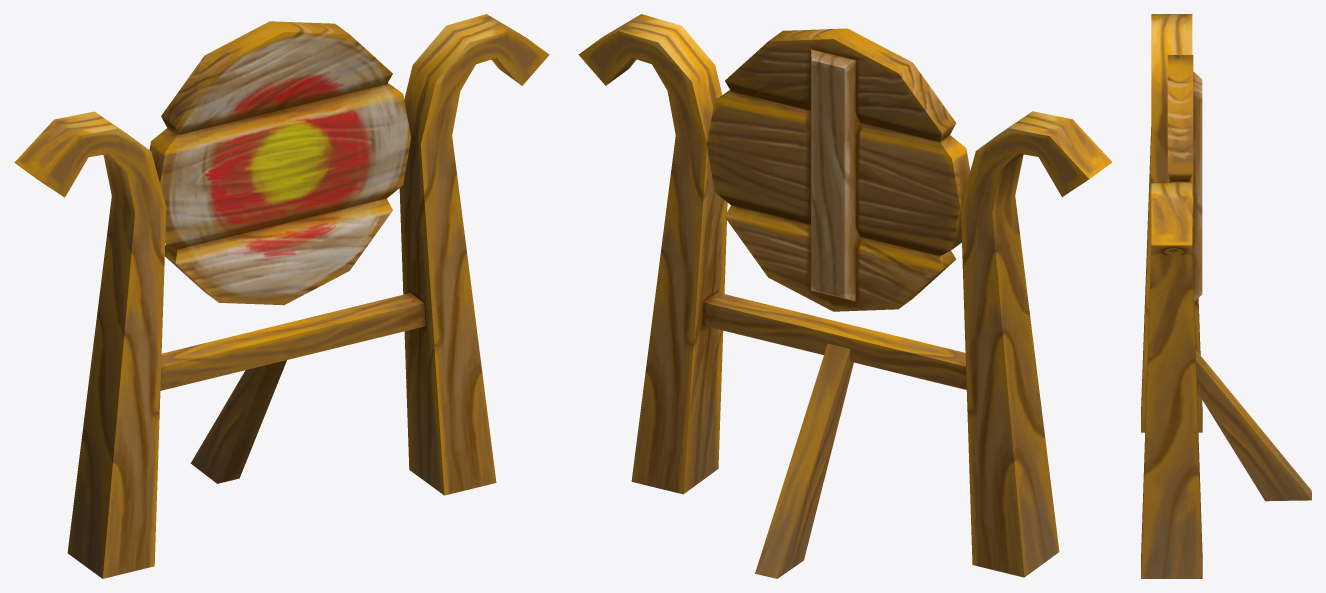
Rendered from target_001.FBX.
3 views of the same model, side by side, from view 1: azimuth 30°, elevation 25°; view 2: azimuth 150°, elevation 25°; view 3: azimuth 270°, elevation 25° (orthographic). The views are drawn at different scales.
Parts seen in each view (by area): view 1: target_001; view 2: target_001; view 3: target_001.
Part boxes in pixels (<box>): target_001: <box>14,14,549,578</box>; target_001: <box>578,14,1112,578</box>; target_001: <box>1141,14,1311,578</box>.
Bounding box in the file's own units: 25.49 × 23.3 × 8.4.
1 material, 1 textured.
